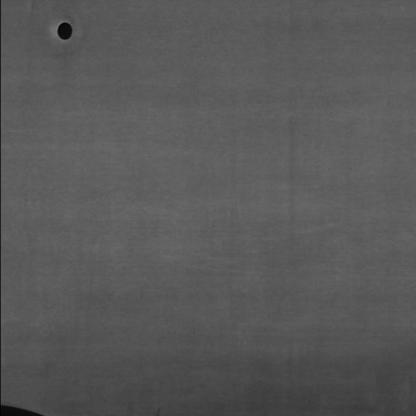crescent_gap: (2, 402, 44, 416)
punching_hole: (47, 19, 79, 44)
